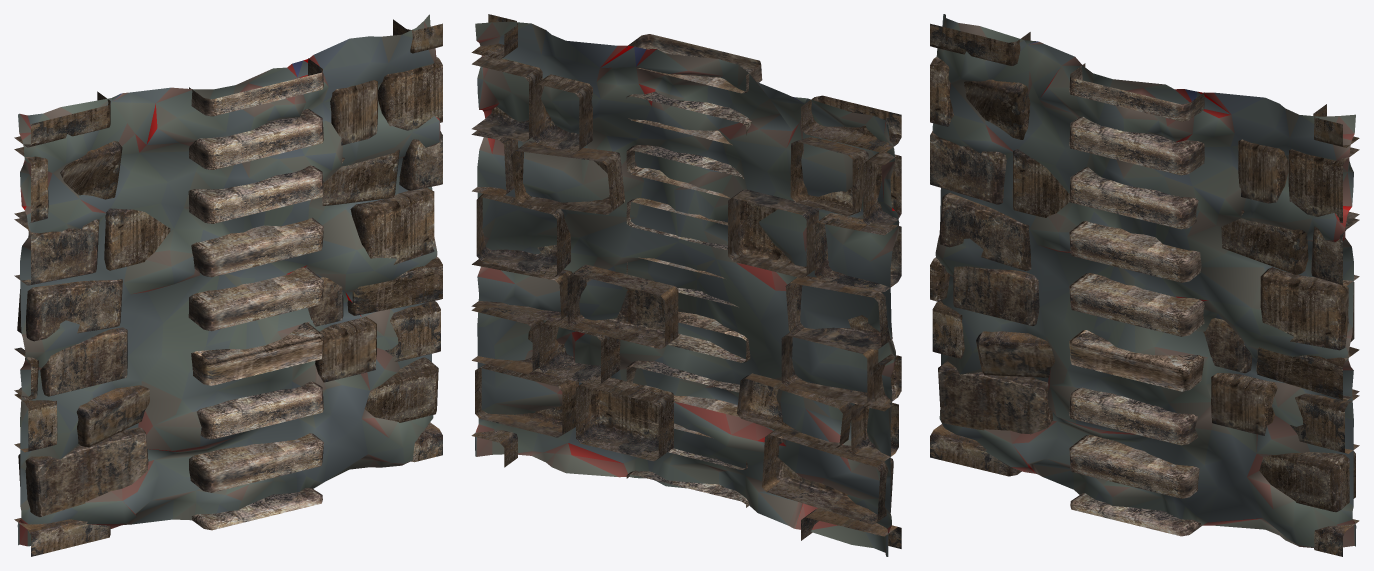
Rendered from taureg_straight_ladder.dae.
3 renders of one model, left to right at view 1: azimuth 30°, elevation 25°; view 2: azimuth 150°, elevation 25°; view 3: azimuth 330°, elevation 25°, orthographic.
Visible parts, largest first — view 1: Mesh, LO2, Mesh__2_; view 2: Mesh, LO2, Mesh__2_; view 3: Mesh, LO2, Mesh__2_.
Part boxes in pixels (bbox=[...]): Mesh: bbox=[17, 14, 440, 546]; LO2: bbox=[14, 19, 442, 556]; Mesh__2_: bbox=[188, 58, 323, 530]; Mesh: bbox=[475, 21, 899, 556]; LO2: bbox=[471, 14, 901, 548]; Mesh__2_: bbox=[626, 34, 762, 507]; Mesh: bbox=[932, 14, 1356, 547]; LO2: bbox=[930, 23, 1359, 556]; Mesh__2_: bbox=[1069, 63, 1204, 536].
Size of the model in its own units: 4 by 4.02 by 0.6398.
